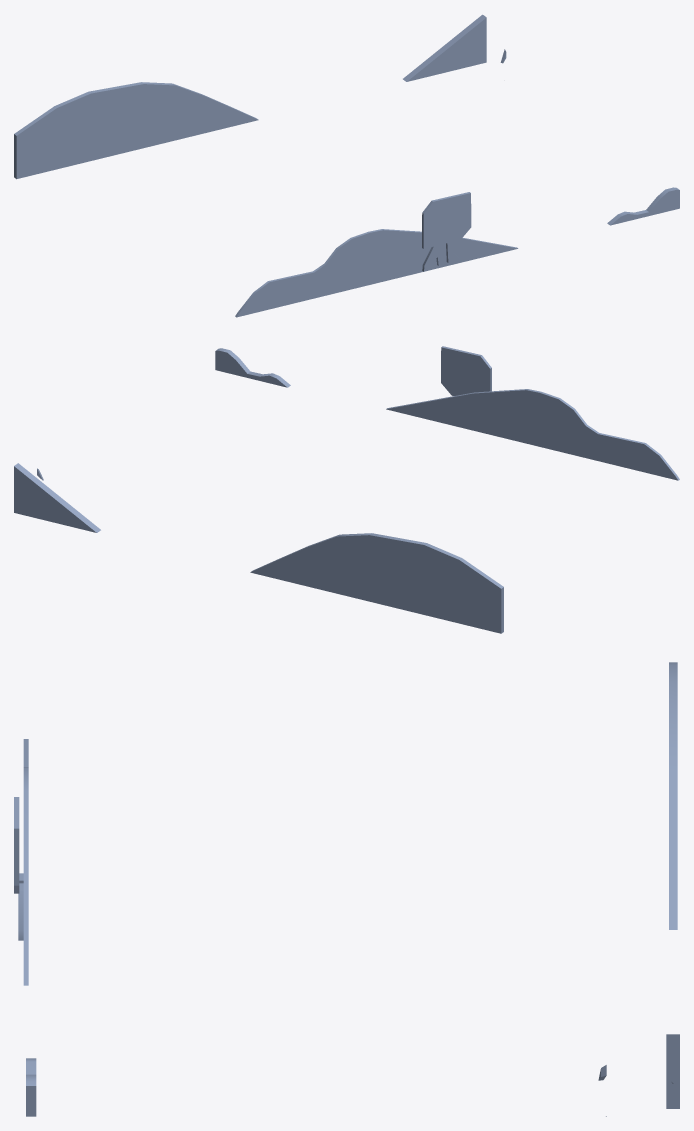
Rendered from frame_0075.glb.
The picture shows the model from 3 angles, top to bottom: view 1: azimuth 30°, elevation 25°; view 2: azimuth 150°, elevation 25°; view 3: azimuth 270°, elevation 25°; orthographic projection. The views are drawn at different scales.
Parts seen in each view (by area): view 1: export_trees_001.002; view 2: export_trees_001.002; view 3: export_trees_001.002.
Boxes of the visible parts, left/top/right/bottom form: export_trees_001.002: left=14, top=14, right=679, bottom=317; export_trees_001.002: left=14, top=346, right=679, bottom=633; export_trees_001.002: left=14, top=662, right=679, bottom=1116.
Bounding box in the file's own units: 0.4327 × 0.0622 × 0.321.
